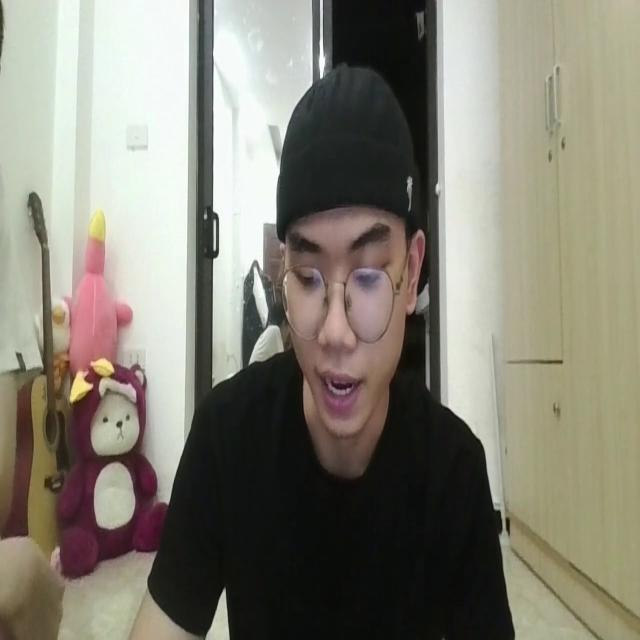student: (120, 58, 516, 640)
